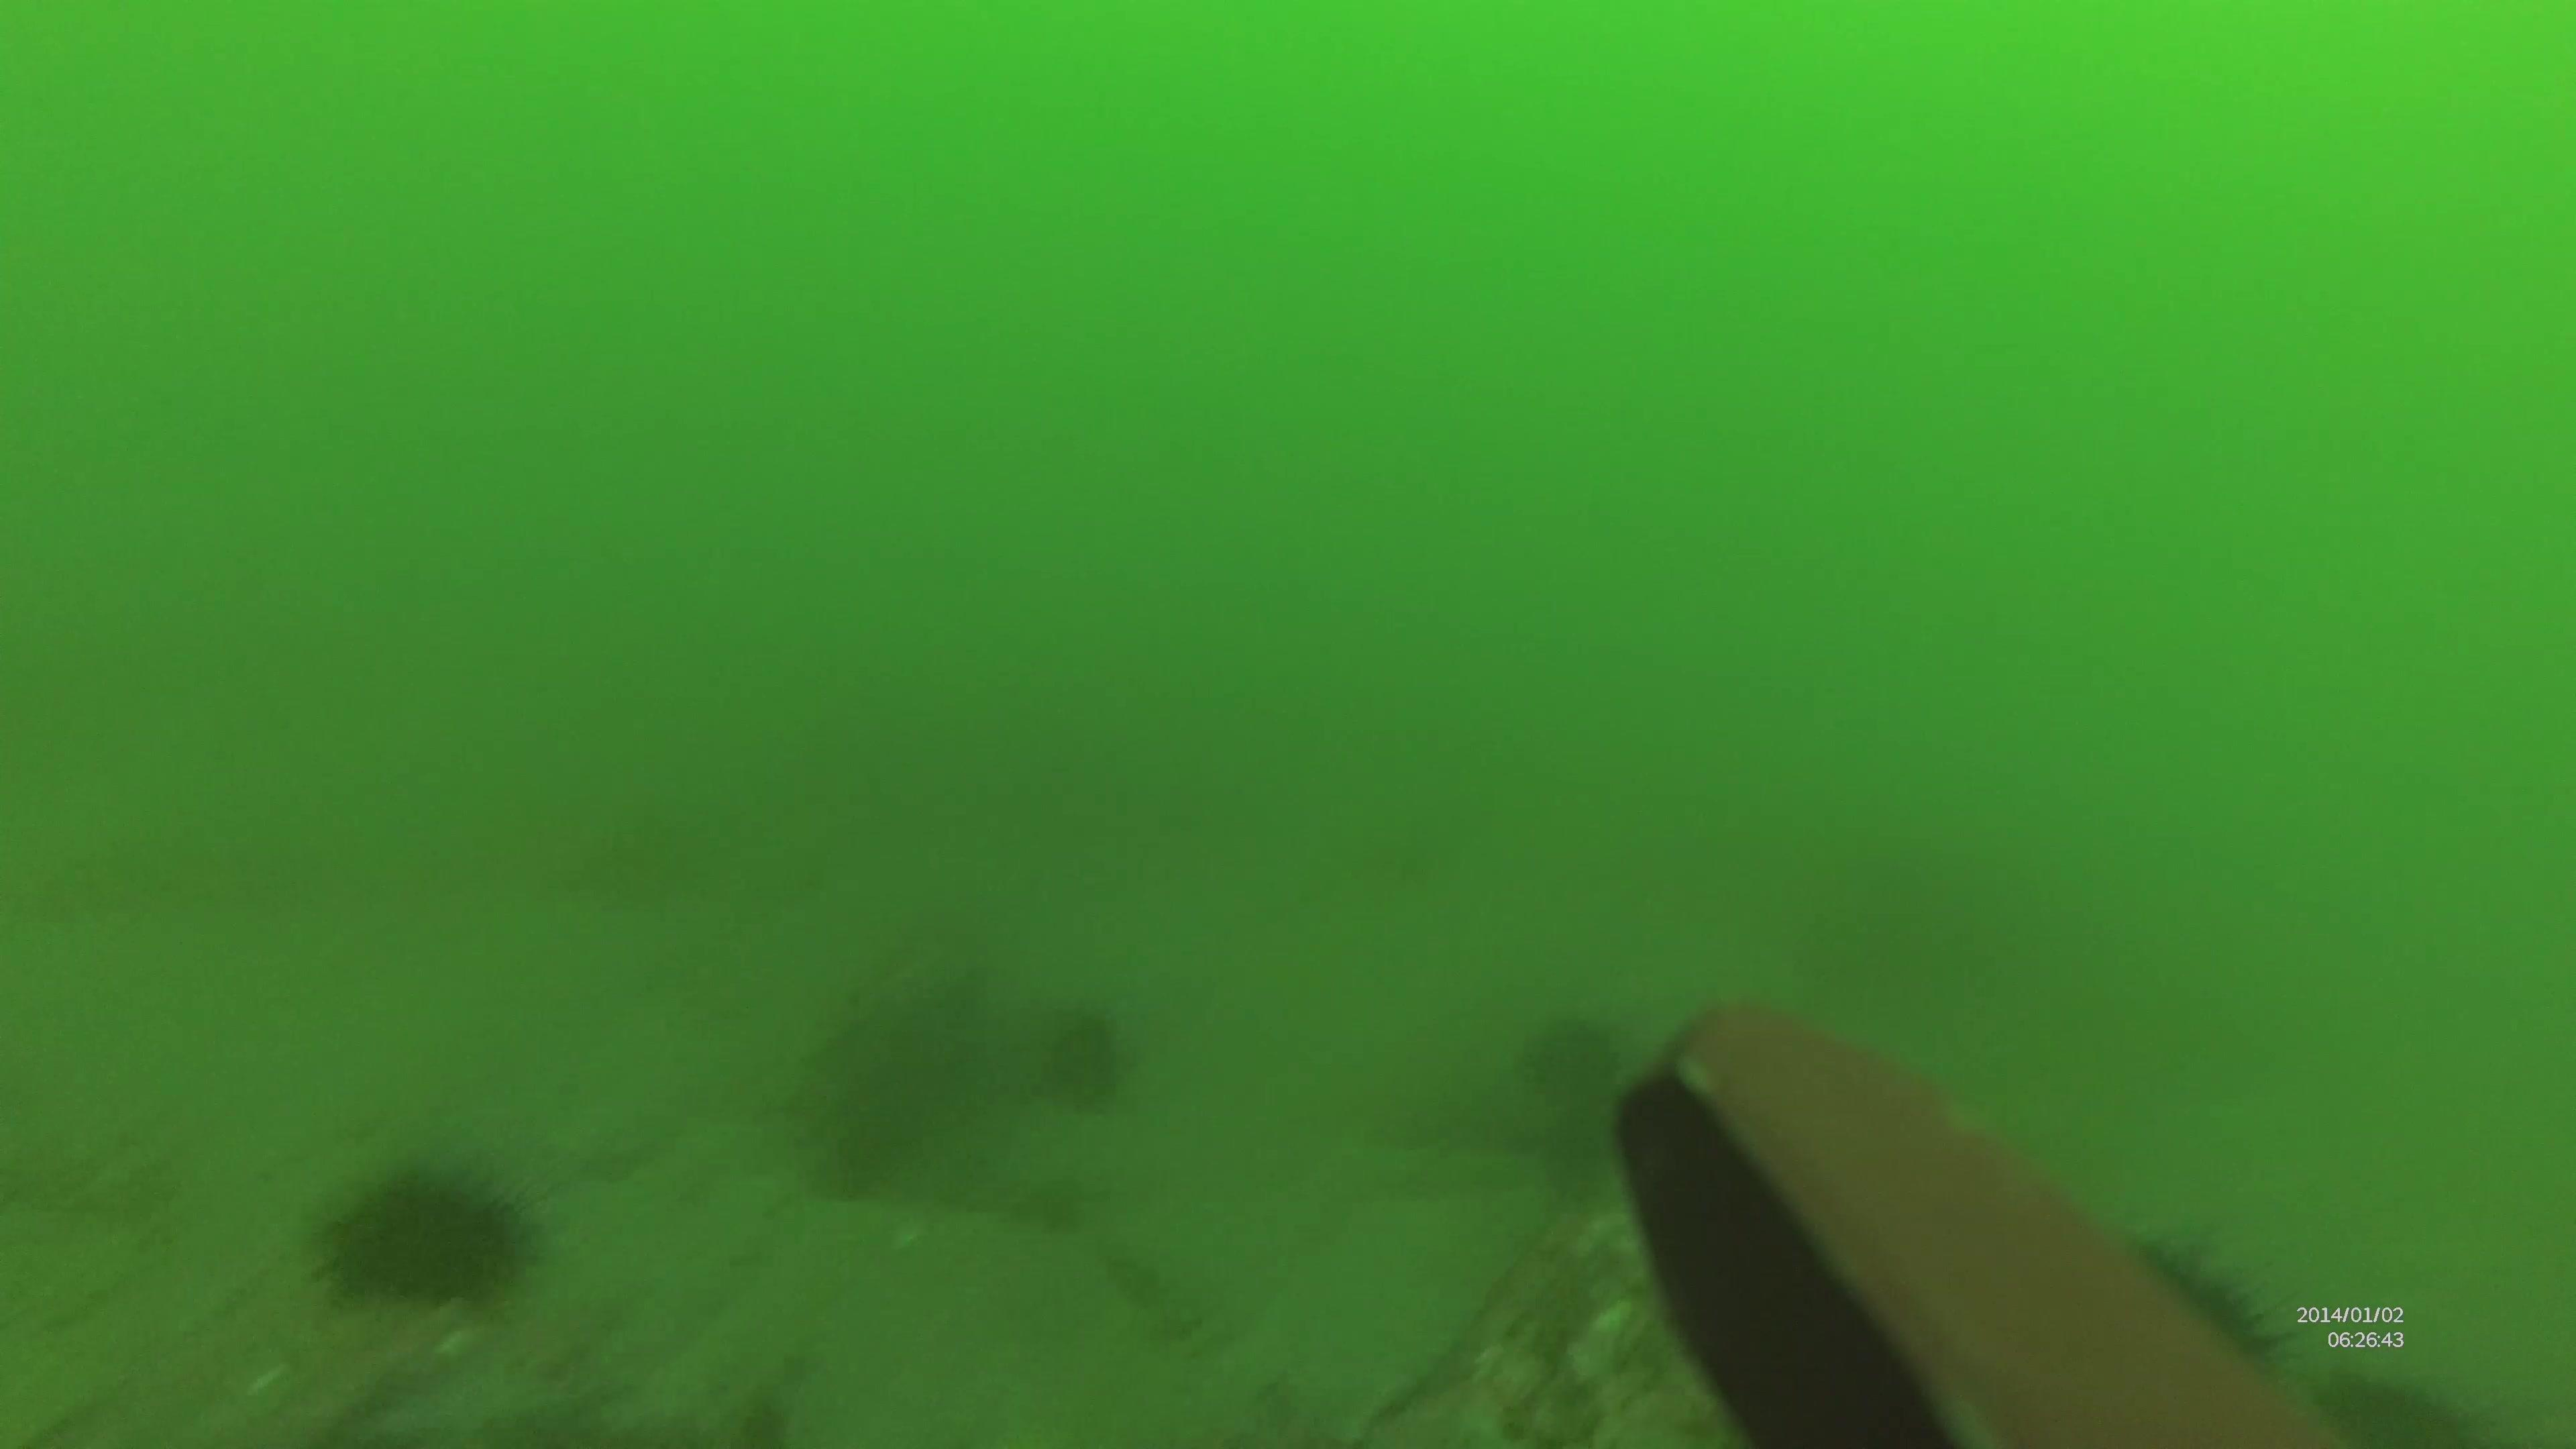echinus: (2081, 1214, 2300, 1410), (303, 1155, 554, 1311)
